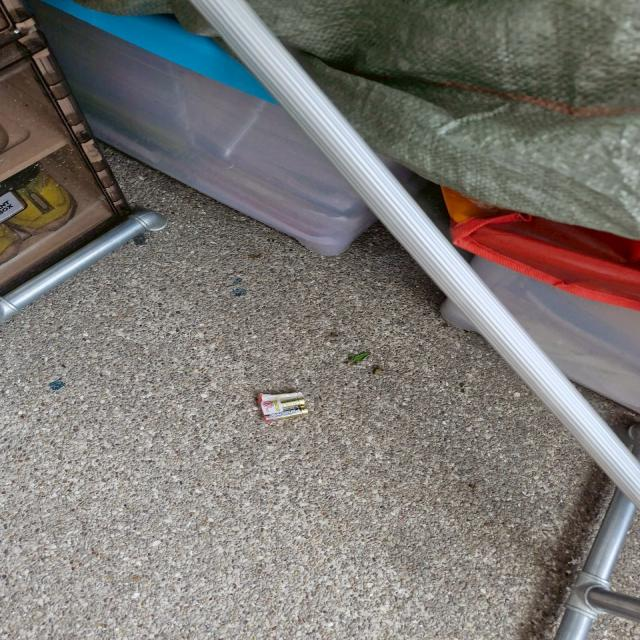battery: (250, 387, 312, 425)
